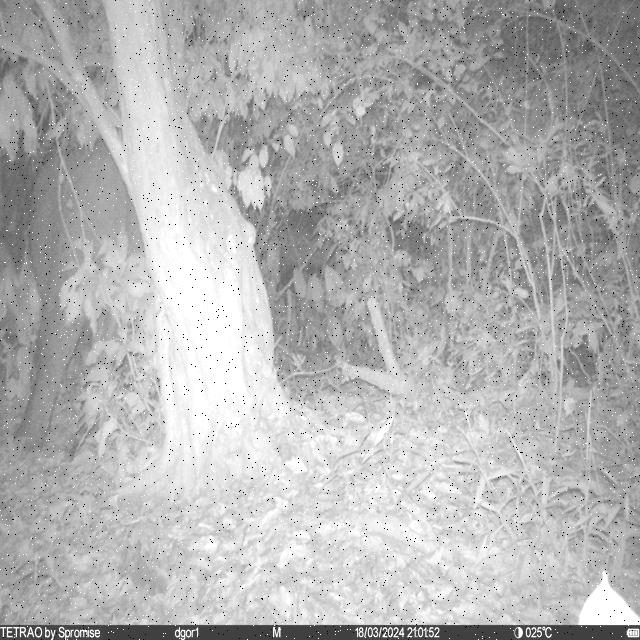elephant: (13, 138, 145, 451)
